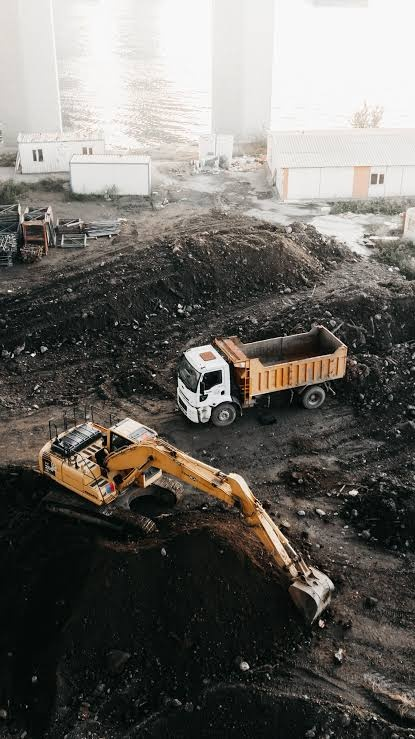excavator: (38, 396, 360, 673)
truck: (143, 318, 362, 425)
